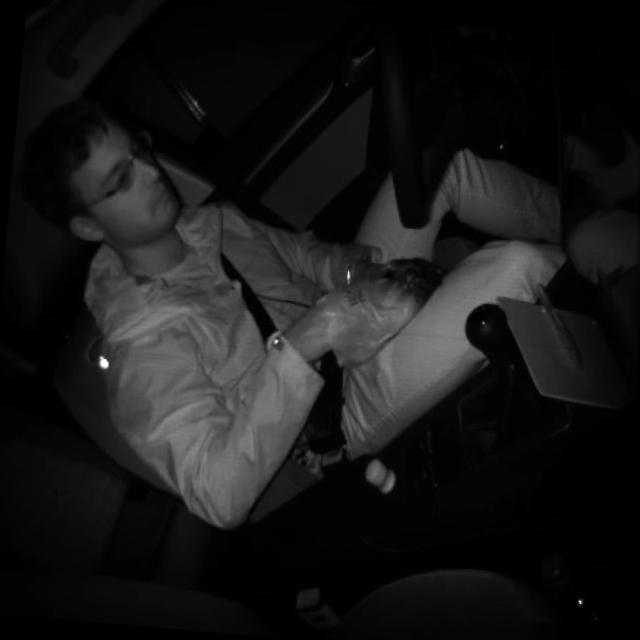pen: (526, 276, 596, 373)
